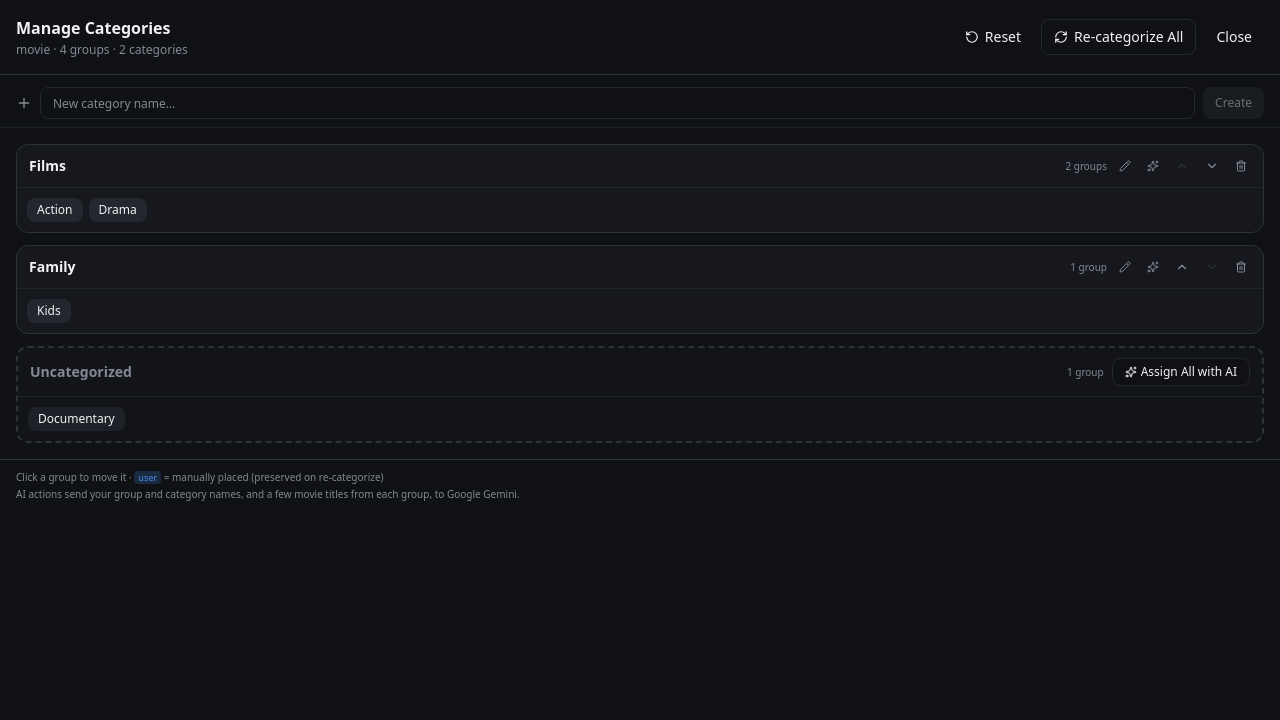
Test case: CategoryManager categories › shows why a rename failed, until it's dismissed
Click the button named "Rename" in the row of "Family" at (1125, 267), box x1=1115 y1=257 x2=1135 y2=277
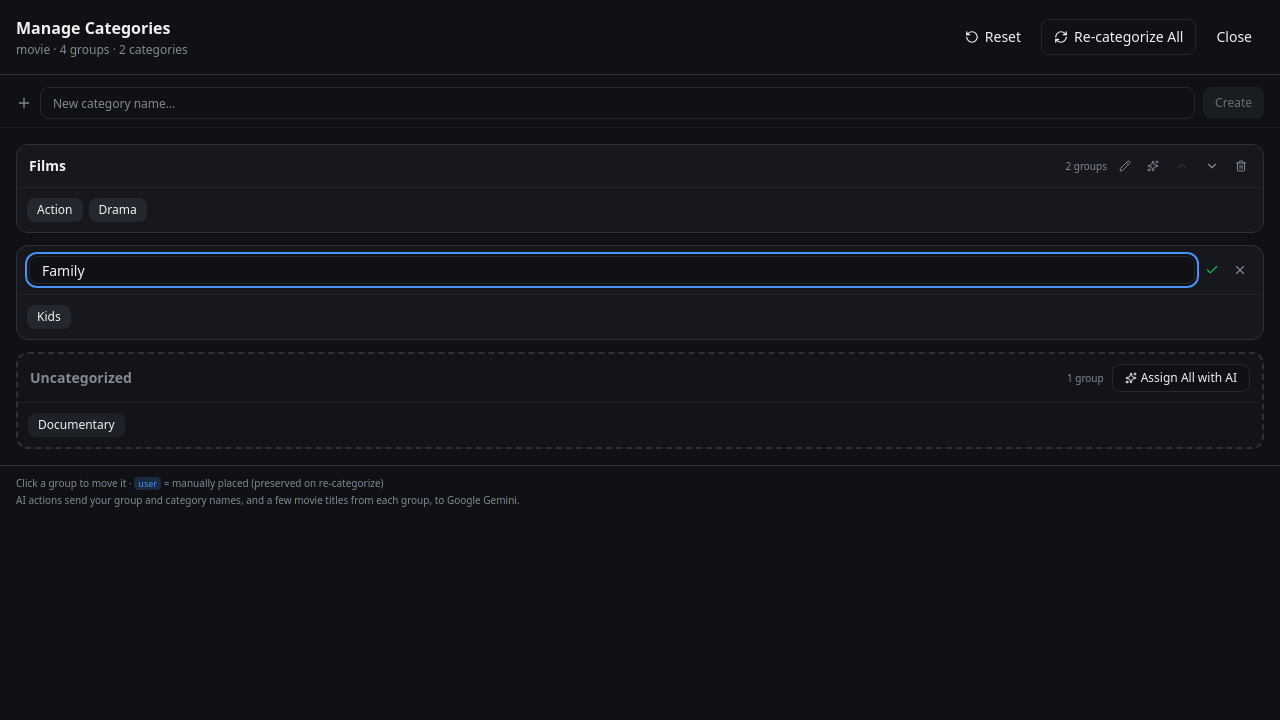
Replace the text in the field showing "Family" with "Films" at (612, 270), box x1=29 y1=256 x2=1195 y2=284
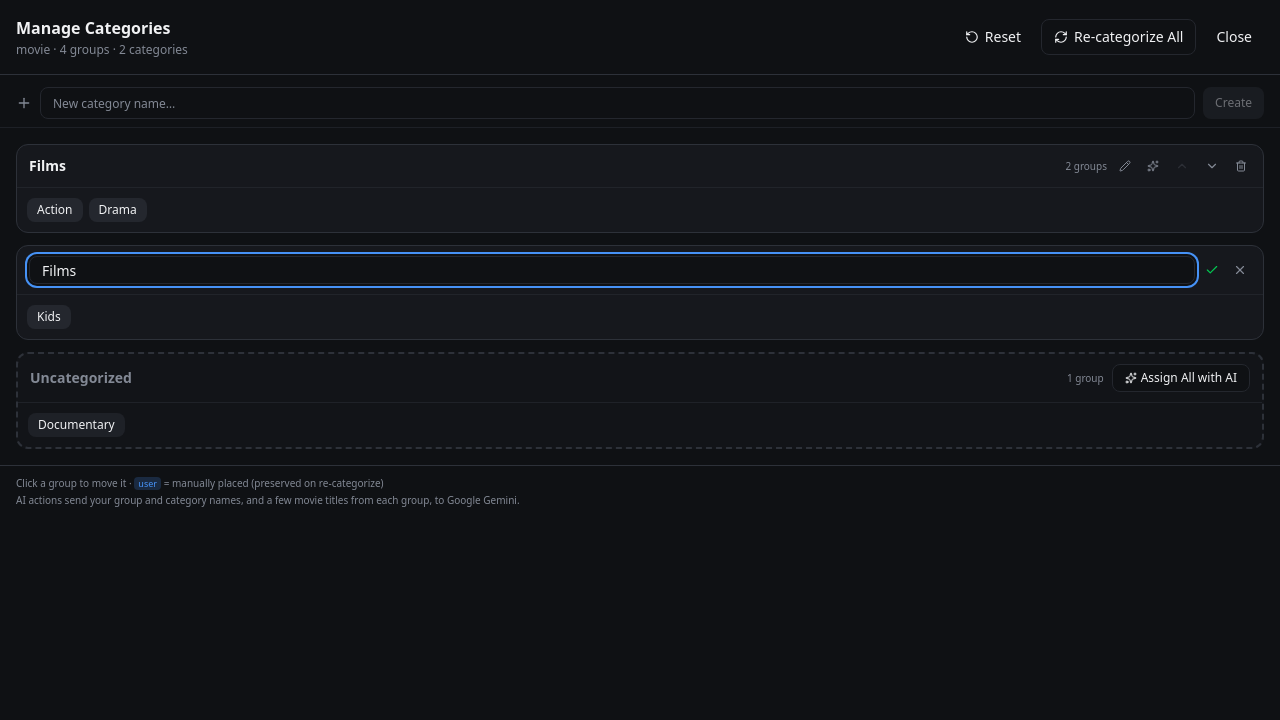
Click the button named "Save name" at (1212, 270), box x1=1201 y1=259 x2=1223 y2=281
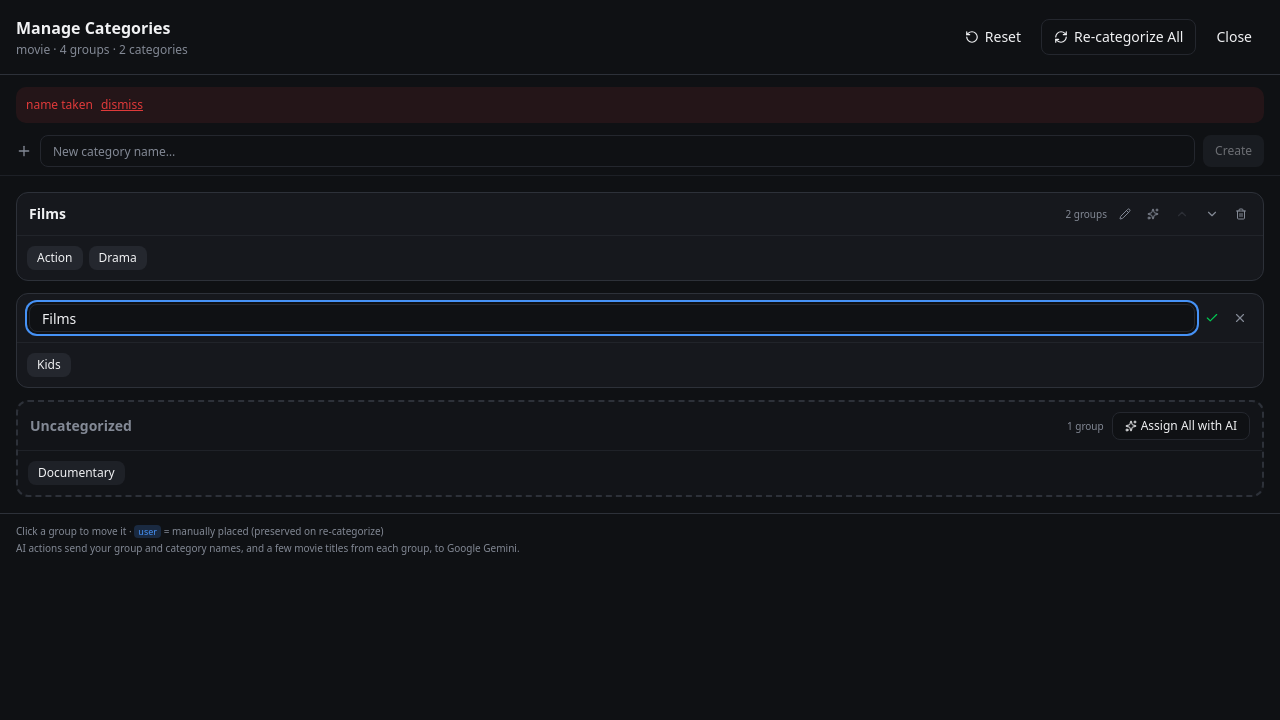
Result: the button named "Save name" is shown at x1=1201 y1=307 x2=1223 y2=329
Result: the text "name taken" is shown at x1=26 y1=96 x2=93 y2=113
Click the button "dismiss" at (122, 105), box x1=101 y1=97 x2=143 y2=113
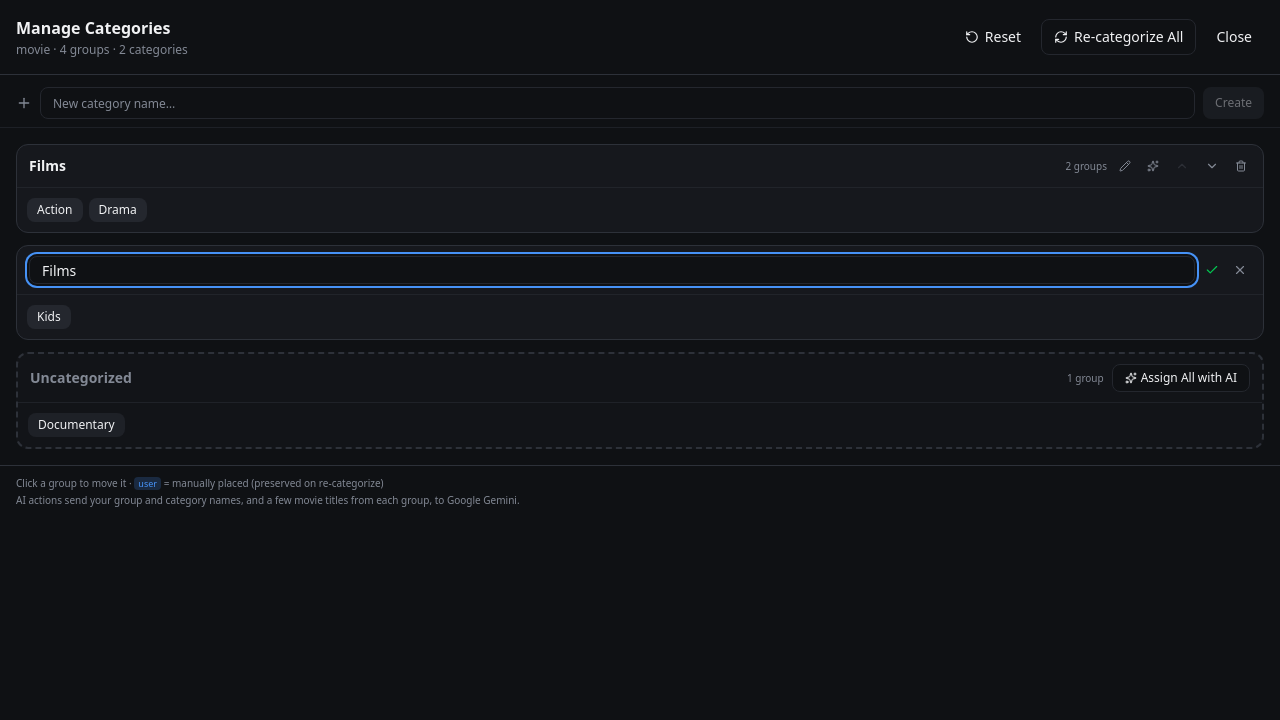
Result: the text "name taken" is gone
